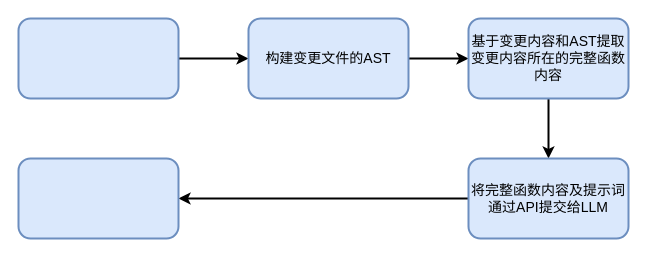
Some shapes in this 646 by 256 pixel diagram are drawn without their labels. The shapes that lost their labels are listed below. From the top down, each one's centre as x and y in pixels, then its label:
the point at 98,58: 根据合并请求ID获取变更文件及变更内容
the point at 98,198: 将LLM的输出作为评论添加到合并请求页面
